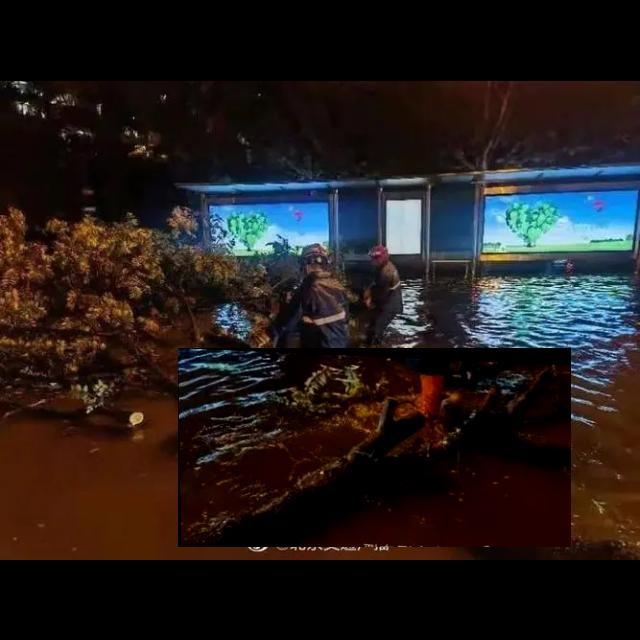fallen_tree: (178, 348, 572, 548)
